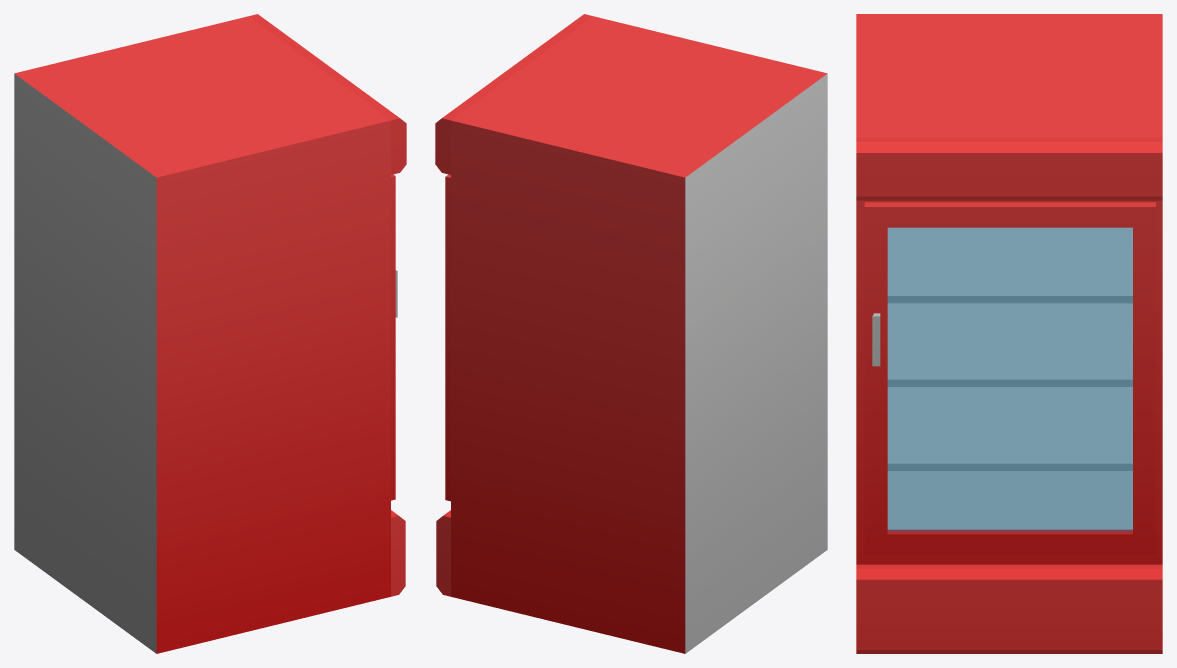
File: fridge_single_red.fbx
The picture shows the model from 3 angles, left to right: view 1: azimuth 30°, elevation 25°; view 2: azimuth 150°, elevation 25°; view 3: azimuth 270°, elevation 25°; orthographic projection. The views are drawn at different scales.
Parts seen in each view (by area): view 1: fridge_single_red, fridge_door_single_red; view 2: fridge_single_red, fridge_door_single_red; view 3: fridge_single_red, fridge_door_single_red.
Boxes of the visible parts, box(x1,y1,x2,y2) form: fridge_single_red: box(14, 14, 406, 653); fridge_door_single_red: box(391, 174, 397, 500); fridge_single_red: box(435, 14, 827, 653); fridge_door_single_red: box(445, 174, 450, 501); fridge_single_red: box(856, 14, 1162, 653); fridge_door_single_red: box(864, 202, 1155, 554).
Size of the model in its own units: 680 by 1238 by 671.
